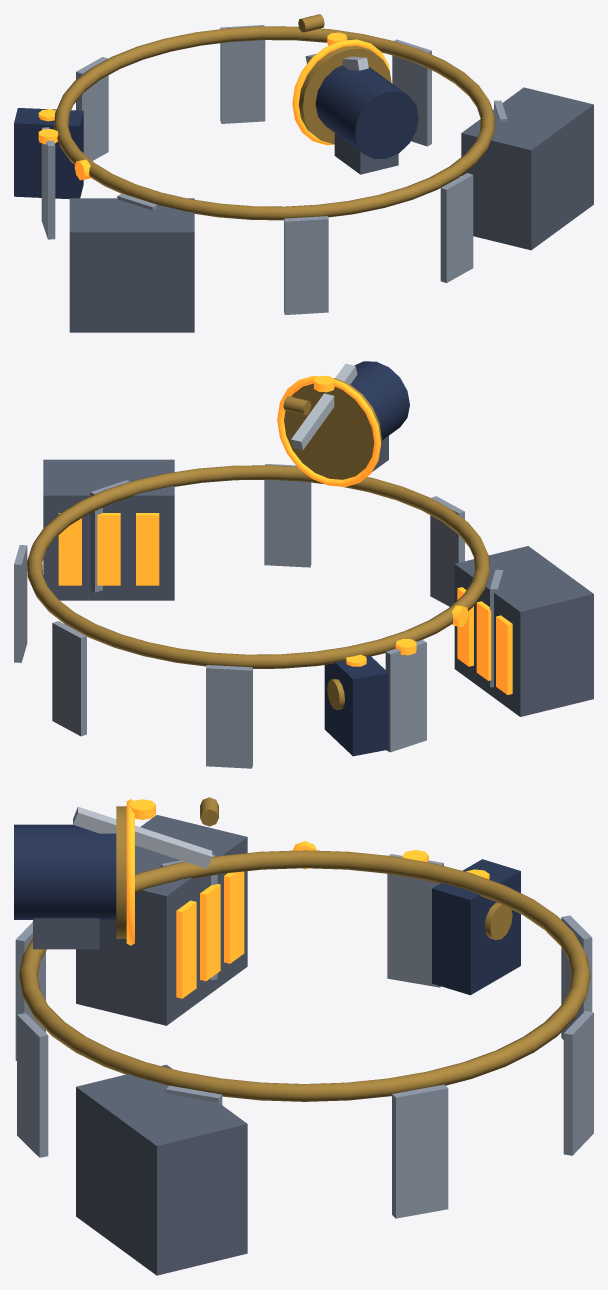
File: tower_overclock_efficiency_s8.glb
The picture shows the model from 3 angles, top to bottom: view 1: azimuth 30°, elevation 25°; view 2: azimuth 150°, elevation 25°; view 3: azimuth 270°, elevation 25°; orthographic projection. The views are drawn at different scales.
Parts seen in each view (by area): view 1: overclock_battery_b, overclock_battery, overclock_coolant_loop, overclock_governor, overclock_base_fin6, overclock_regulator, overclock_base_fin2, overclock_base_fin5, overclock_governor_wheel, overclock_base_fin3, overclock_base_fin1, overclock_base_fin0 (+2 smaller); view 2: overclock_battery_b, overclock_coolant_loop, overclock_battery, overclock_governor_wheel, overclock_regulator, overclock_base_fin1, overclock_base_fin5, overclock_base_fin0, overclock_base_fin2, overclock_governor, overclock_base_fin6, overclock_governor_glow (+9 smaller); view 3: overclock_battery, overclock_coolant_loop, overclock_battery_b, overclock_governor, overclock_regulator, overclock_base_fin3, overclock_base_fin0, overclock_base_fin5, overclock_base_fin2, overclock_linkage, overclock_governor_mount, overclock_battery_b_cell-0.1 (+7 smaller).
Part boxes in pixels (x1,y1,x2,y2): overclock_battery_b: (69, 198, 194, 332); overclock_battery: (461, 87, 593, 250); overclock_coolant_loop: (54, 26, 495, 220); overclock_governor: (315, 65, 418, 159); overclock_base_fin6: (284, 216, 328, 314); overclock_regulator: (14, 108, 83, 199); overclock_base_fin2: (220, 25, 265, 123); overclock_base_fin5: (440, 173, 473, 282); overclock_governor_wheel: (299, 45, 391, 144); overclock_base_fin3: (392, 39, 431, 146); overclock_base_fin1: (76, 57, 108, 160); overclock_base_fin0: (41, 127, 55, 239); overclock_battery_b: (454, 546, 593, 716); overclock_coolant_loop: (27, 465, 490, 668); overclock_battery: (43, 459, 174, 600); overclock_governor_wheel: (284, 378, 381, 479); overclock_regulator: (324, 655, 388, 756); overclock_base_fin1: (206, 665, 252, 768); overclock_base_fin5: (264, 464, 311, 567); overclock_base_fin0: (385, 640, 426, 752); overclock_base_fin2: (52, 621, 86, 736); overclock_governor: (350, 361, 409, 440); overclock_base_fin6: (430, 496, 464, 606); overclock_governor_glow: (277, 376, 380, 486); overclock_battery: (76, 1064, 247, 1275); overclock_coolant_loop: (19, 850, 590, 1101); overclock_battery_b: (76, 815, 247, 1025); overclock_governor: (14, 824, 116, 919); overclock_regulator: (432, 859, 520, 995); overclock_base_fin3: (392, 1084, 448, 1218); overclock_base_fin0: (387, 854, 443, 987); overclock_base_fin5: (17, 1013, 48, 1157); overclock_base_fin2: (563, 1011, 593, 1155); overclock_linkage: (73, 806, 212, 868); overclock_governor_mount: (33, 918, 99, 949); overclock_battery_b_cell-0.1: (176, 900, 196, 998).
Bounding box in the file's own units: 1.64 × 0.71 × 1.22.
